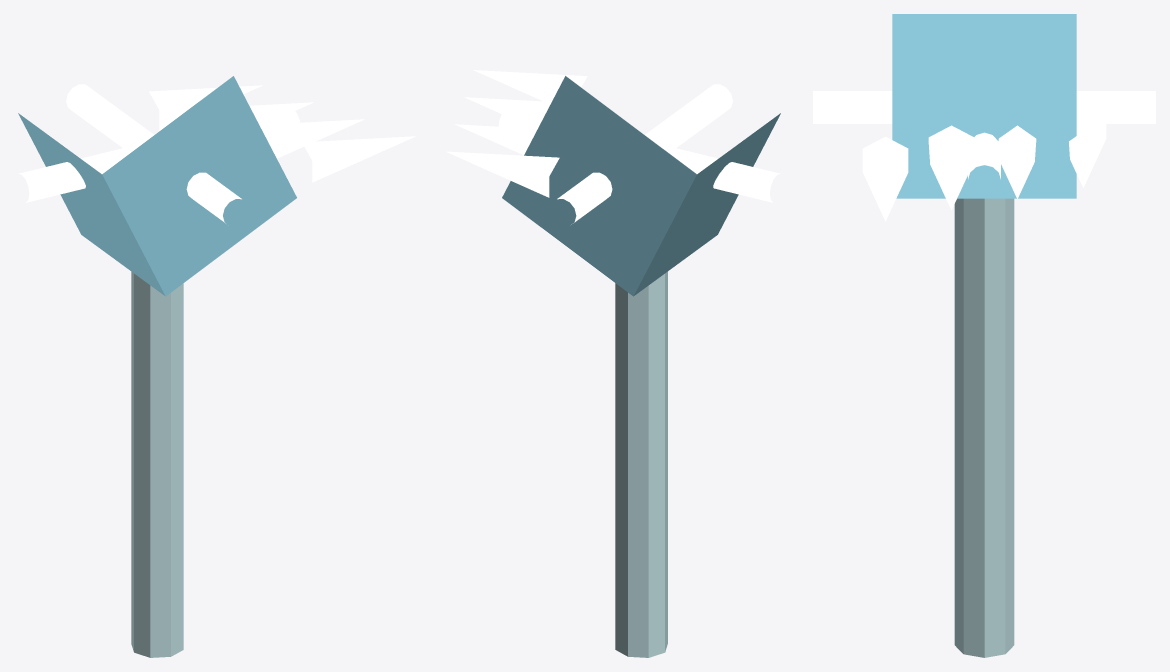
File: eye-of-skadi.glb
3 renders of one model, left to right at view 1: azimuth 30°, elevation 25°; view 2: azimuth 150°, elevation 25°; view 3: azimuth 270°, elevation 25°, orthographic. The views are drawn at different scales.
Parts seen in each view (by area): view 1: eye-of-skadi-orb-core, eye-of-skadi-short-haft, eye-of-skadi-orb-ring-z, eye-of-skadi-orb-ring-x, eye-of-skadi-ice-spike-3, eye-of-skadi-ice-spike-2, eye-of-skadi-ice-spike-0; view 2: eye-of-skadi-orb-core, eye-of-skadi-short-haft, eye-of-skadi-orb-ring-z, eye-of-skadi-orb-ring-x, eye-of-skadi-ice-spike-0, eye-of-skadi-ice-spike-3, eye-of-skadi-ice-spike-1, eye-of-skadi-ice-spike-2; view 3: eye-of-skadi-orb-core, eye-of-skadi-short-haft, eye-of-skadi-orb-ring-z, eye-of-skadi-ice-spike-3, eye-of-skadi-ice-spike-2, eye-of-skadi-ice-spike-0, eye-of-skadi-ice-spike-1, eye-of-skadi-orb-ring-x.
Part boxes in pixels (<box>): eye-of-skadi-orb-core: <box>18,76,296,296</box>; eye-of-skadi-short-haft: <box>131,271,183,657</box>; eye-of-skadi-orb-ring-z: <box>66,84,241,223</box>; eye-of-skadi-orb-ring-x: <box>18,107,299,202</box>; eye-of-skadi-ice-spike-3: <box>302,136,415,182</box>; eye-of-skadi-ice-spike-2: <box>259,119,364,158</box>; eye-of-skadi-ice-spike-0: <box>149,85,262,130</box>; eye-of-skadi-orb-core: <box>502,76,780,296</box>; eye-of-skadi-short-haft: <box>615,271,667,657</box>; eye-of-skadi-orb-ring-z: <box>557,84,732,224</box>; eye-of-skadi-orb-ring-x: <box>498,107,780,202</box>; eye-of-skadi-ice-spike-0: <box>446,151,559,197</box>; eye-of-skadi-ice-spike-3: <box>473,70,587,101</box>; eye-of-skadi-ice-spike-1: <box>455,124,537,155</box>; eye-of-skadi-ice-spike-2: <box>464,97,551,115</box>; eye-of-skadi-orb-core: <box>892,14,1076,198</box>; eye-of-skadi-short-haft: <box>954,198,1014,657</box>; eye-of-skadi-orb-ring-z: <box>813,91,1155,123</box>; eye-of-skadi-ice-spike-3: <box>862,136,908,221</box>; eye-of-skadi-ice-spike-2: <box>928,125,974,210</box>; eye-of-skadi-ice-spike-0: <box>1069,103,1106,187</box>; eye-of-skadi-ice-spike-1: <box>998,125,1036,198</box>; eye-of-skadi-orb-ring-x: <box>968,132,1000,179</box>.
Bounding box in the file's own units: 0.67 × 1.09 × 0.52.
